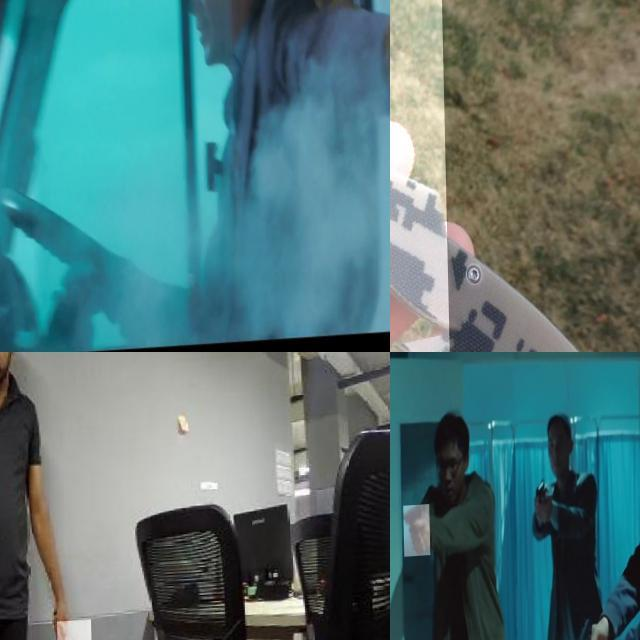-: (390, 0, 607, 352), (54, 623, 90, 640)
gun-knife-thesis - v11 Yolov5 augmented: (402, 506, 429, 559), (532, 482, 548, 530), (559, 622, 601, 640)
